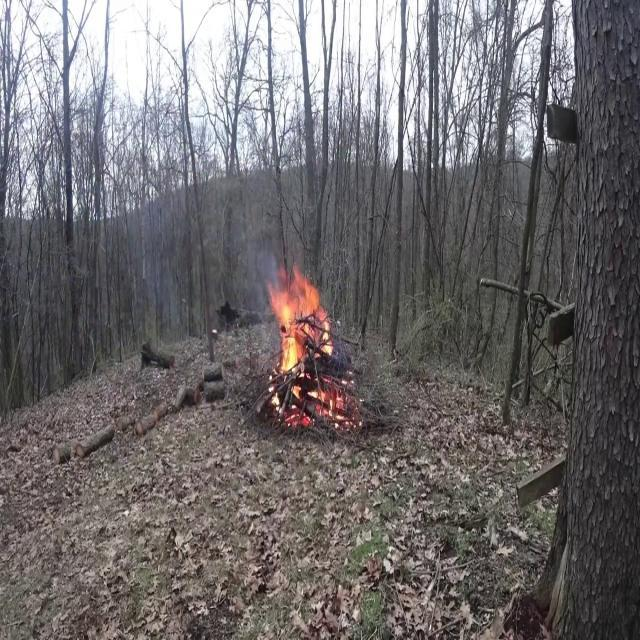Fire: (264, 260, 339, 410)
